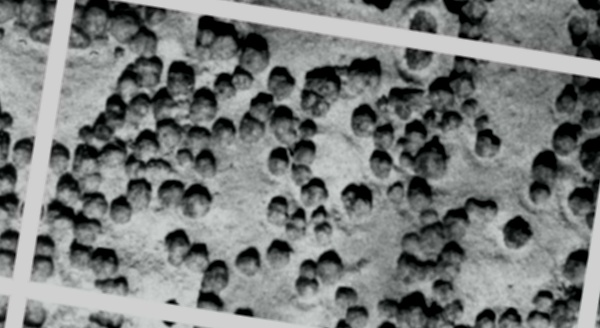halobolite: (191, 9, 245, 66), (392, 254, 456, 285), (404, 11, 438, 69), (189, 17, 224, 68), (346, 48, 391, 86), (26, 9, 62, 52), (394, 102, 429, 142), (115, 124, 148, 165), (397, 287, 430, 328), (269, 99, 298, 145), (264, 60, 299, 98), (180, 181, 215, 219), (554, 72, 582, 119), (117, 65, 153, 101), (83, 108, 115, 148), (390, 139, 421, 180), (110, 190, 143, 228), (191, 261, 223, 300), (145, 85, 176, 125), (219, 241, 250, 281), (503, 220, 536, 257), (400, 227, 443, 255), (51, 158, 81, 198), (86, 237, 119, 273), (411, 185, 439, 227), (223, 49, 253, 88), (153, 179, 186, 214), (345, 181, 378, 216), (529, 146, 561, 182), (236, 113, 272, 145), (106, 91, 136, 129), (115, 151, 148, 185), (200, 105, 233, 139), (312, 246, 345, 280), (262, 232, 293, 268), (468, 130, 504, 160), (52, 18, 82, 53), (96, 136, 125, 172), (11, 133, 38, 171), (466, 192, 498, 224), (43, 136, 75, 167), (291, 157, 321, 190), (42, 194, 71, 228), (171, 112, 200, 146), (431, 294, 460, 328), (433, 205, 463, 237), (310, 70, 338, 104), (110, 11, 140, 42), (343, 92, 371, 125), (90, 273, 128, 297), (88, 304, 126, 328), (68, 240, 97, 271), (16, 300, 49, 327), (571, 185, 595, 222), (565, 247, 589, 284), (302, 170, 328, 204), (30, 230, 59, 260), (267, 194, 291, 230), (528, 173, 555, 205), (250, 92, 276, 124), (25, 259, 58, 284), (427, 74, 452, 107), (352, 105, 376, 139), (1, 195, 30, 223), (81, 189, 106, 221), (306, 218, 334, 246), (198, 149, 223, 180), (375, 83, 406, 108), (169, 231, 192, 264), (562, 16, 589, 44), (161, 151, 187, 180), (209, 80, 235, 109), (291, 274, 320, 299), (343, 298, 373, 322), (181, 243, 215, 264), (82, 9, 113, 32), (291, 138, 317, 165), (152, 125, 174, 156), (392, 196, 414, 226), (331, 282, 359, 304), (172, 67, 193, 96), (264, 147, 287, 173), (295, 115, 317, 141), (529, 289, 555, 311), (414, 65, 435, 91), (188, 61, 212, 82), (378, 296, 402, 317), (367, 152, 388, 173), (141, 154, 160, 173), (333, 313, 354, 328)
